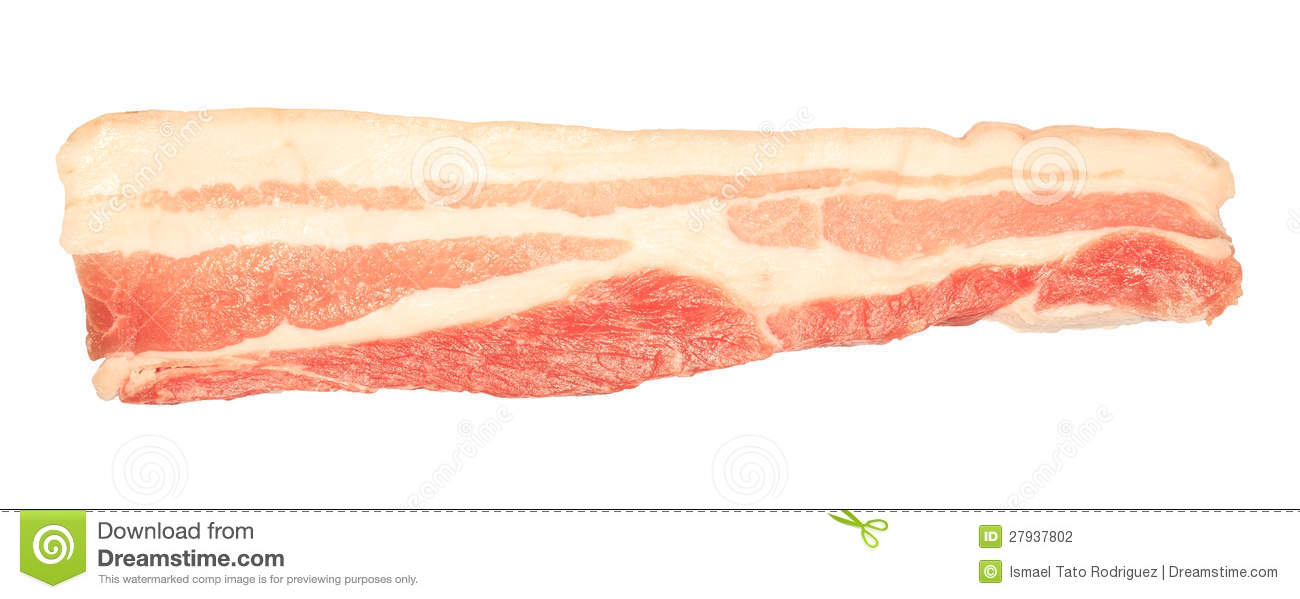bacon: (47, 91, 1283, 419)
